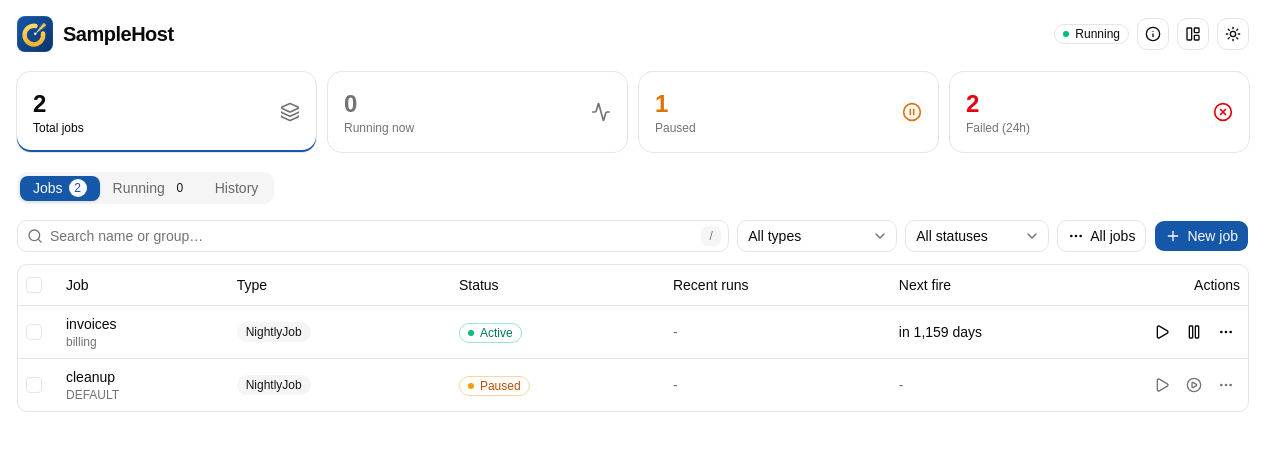
Scenario: App › opens the running tab from its card and loads it straight away
Expected: the heading "SampleHost" is shown, 63,22 -> 174,46
Click the button "0 Running now": click(478, 112) 328,72 -> 627,152
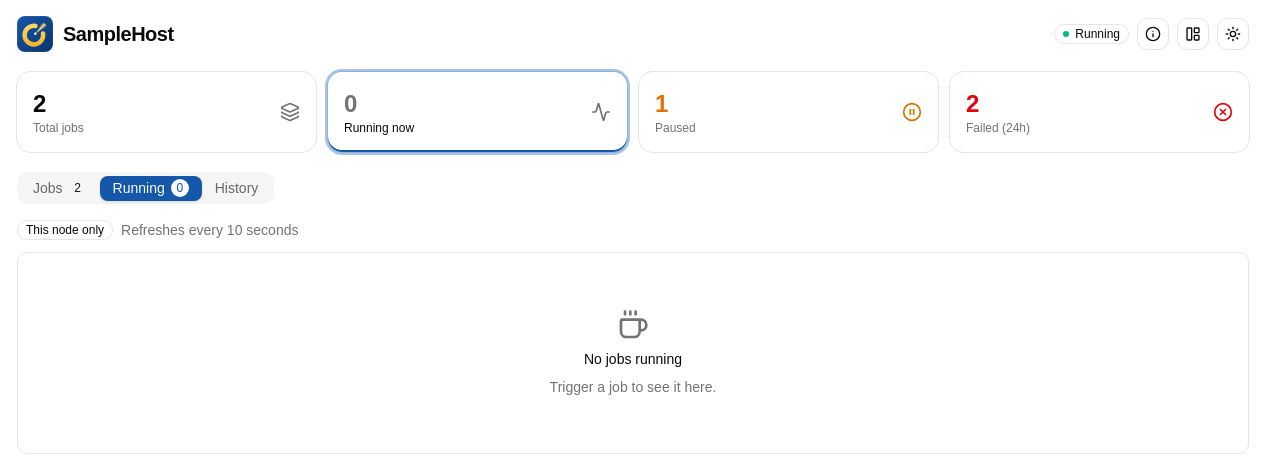
Expected: the text "No jobs running" is shown, 584,349 -> 682,369
